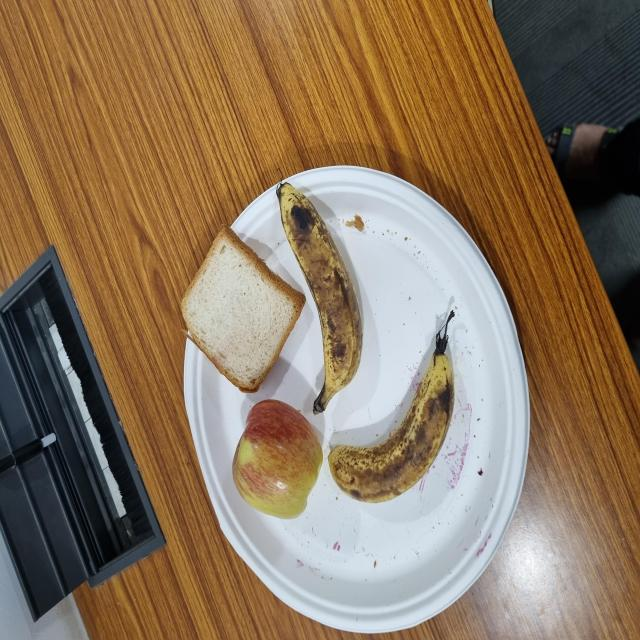apple: (92, 311, 179, 436)
banana: (101, 439, 235, 609), (169, 374, 342, 483)
